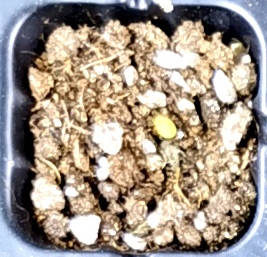pepper seed: (63, 45, 241, 184)
